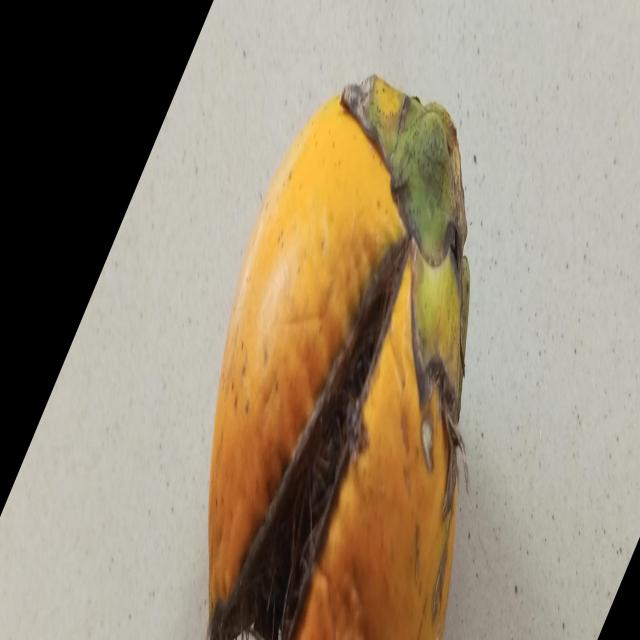damaged: (207, 76, 470, 640)
